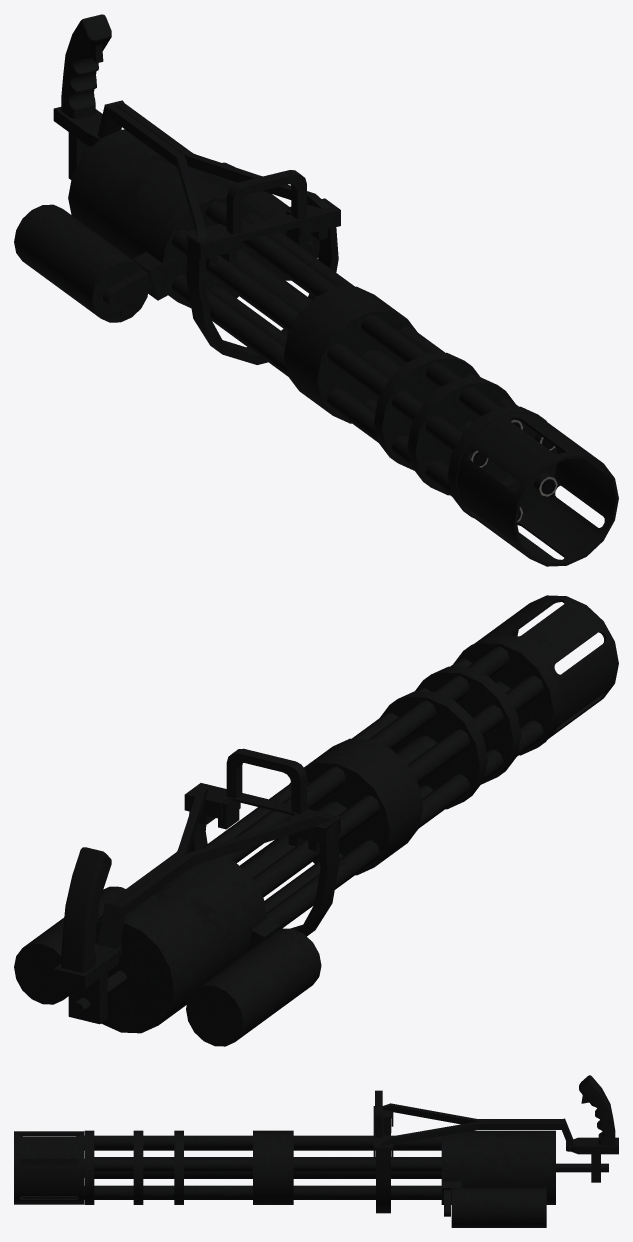
The model's file is Minigun.fbx.
3 renders of one model, top to bottom at view 1: azimuth 30°, elevation 25°; view 2: azimuth 150°, elevation 25°; view 3: azimuth 270°, elevation 25°, orthographic. The views are drawn at different scales.
Parts seen in each view (by area): view 1: Base, Rotating_Wheel, RotatingWheelAdditional; view 2: Base, Rotating_Wheel, RotatingWheelAdditional; view 3: Rotating_Wheel, Base, RotatingWheelAdditional.
Boxes of the visible parts, x1=… form: Base: x1=14, y1=14, x2=340, y2=364; Rotating_Wheel: x1=171, y1=201, x2=557, y2=522; RotatingWheelAdditional: x1=456, y1=413, x2=618, y2=566; Base: x1=14, y1=748, x2=340, y2=1046; Rotating_Wheel: x1=202, y1=637, x2=561, y2=928; RotatingWheelAdditional: x1=475, y1=595, x2=618, y2=738; Rotating_Wheel: x1=78, y1=1130, x2=441, y2=1204; Base: x1=373, y1=1075, x2=618, y2=1227; RotatingWheelAdditional: x1=14, y1=1131, x2=84, y2=1204.
Bounding box in the file's own units: 3.78 × 3.42 × 14.19.
